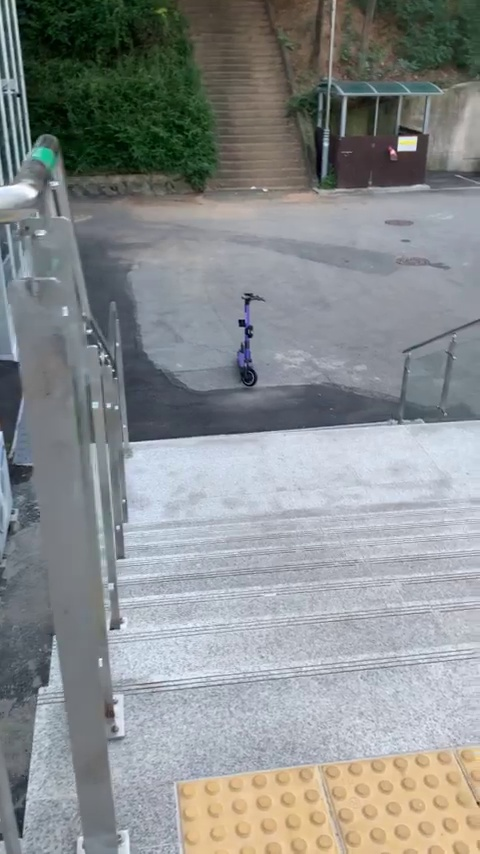beam: (230, 281, 265, 397)
